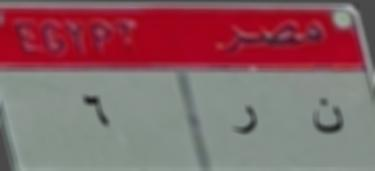6: (80, 90, 114, 138)
noon: (304, 94, 350, 140)
raa: (228, 97, 264, 142)
